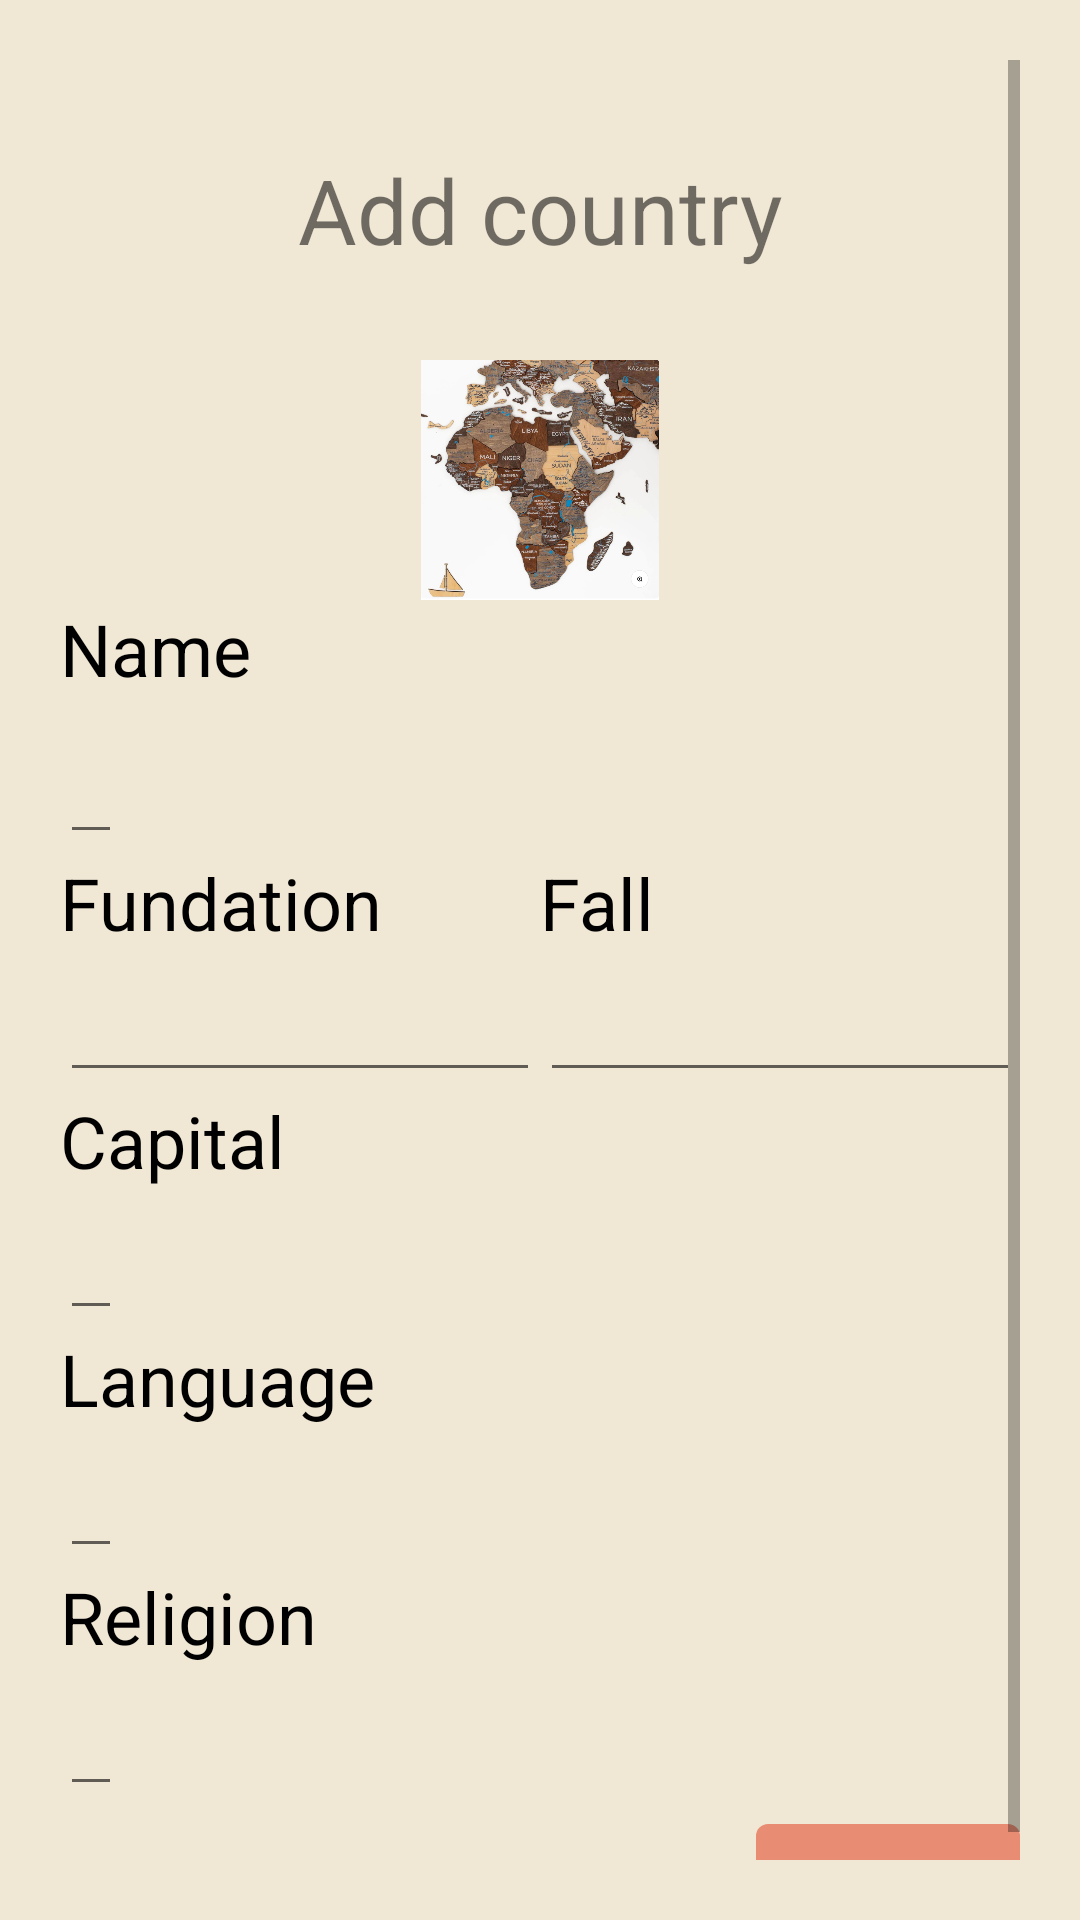

Where to tap for icons on this 1080 × 1920 app screen, as (x=x, y=y):
africa: (x=540, y=480)
